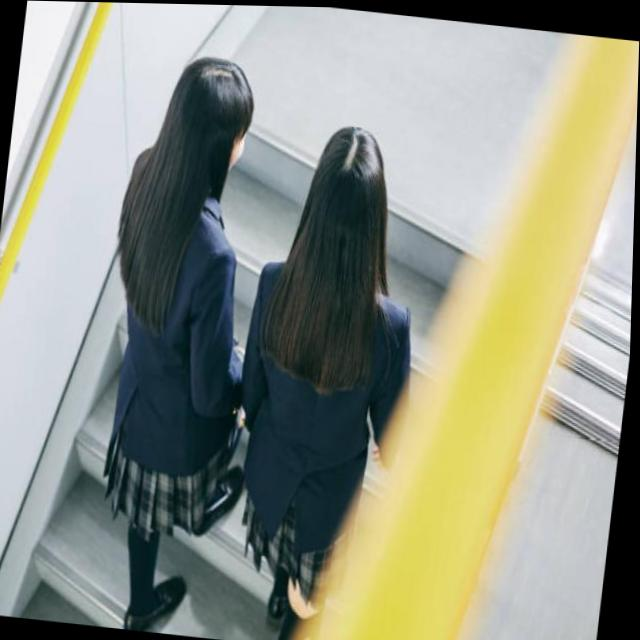no helmet: (291, 107, 412, 316), (148, 49, 271, 206)
